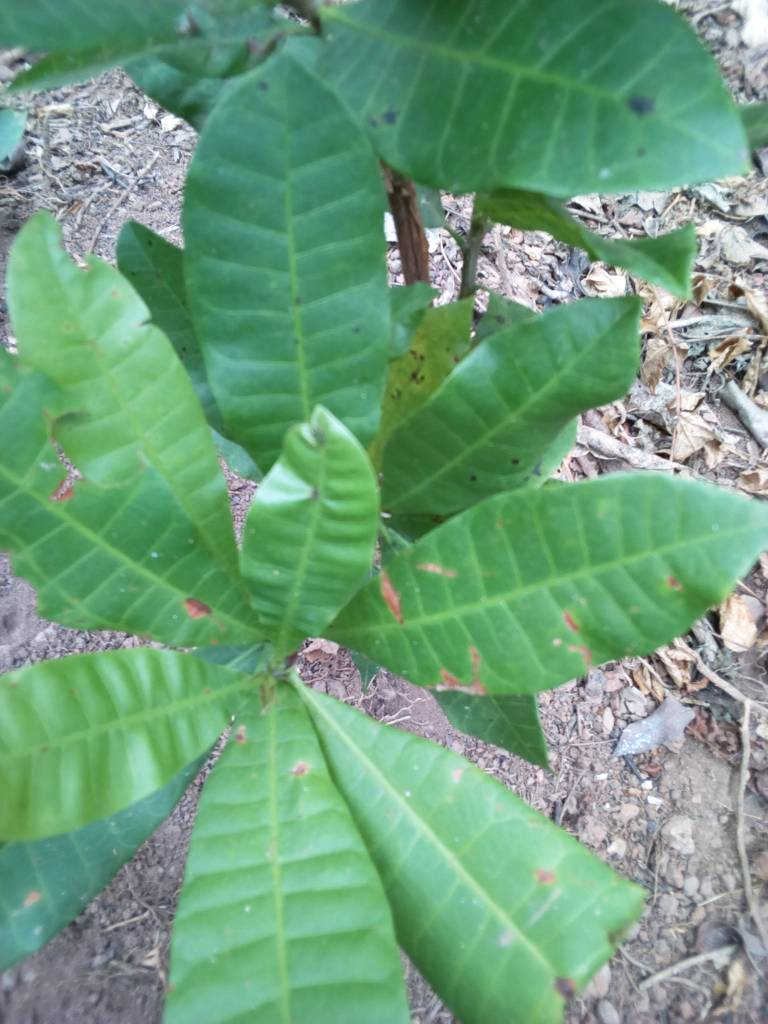Alternariose: (338, 469, 755, 713), (349, 727, 632, 1011)
